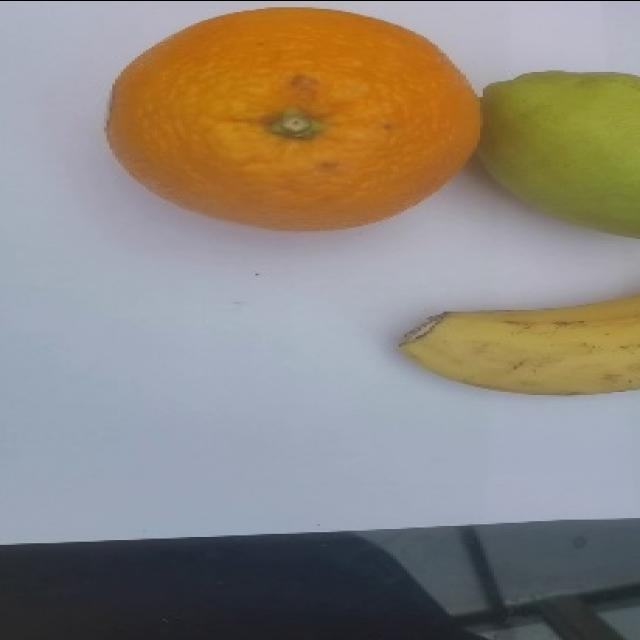Banana: (396, 291, 639, 395)
Orange: (104, 5, 483, 231)
